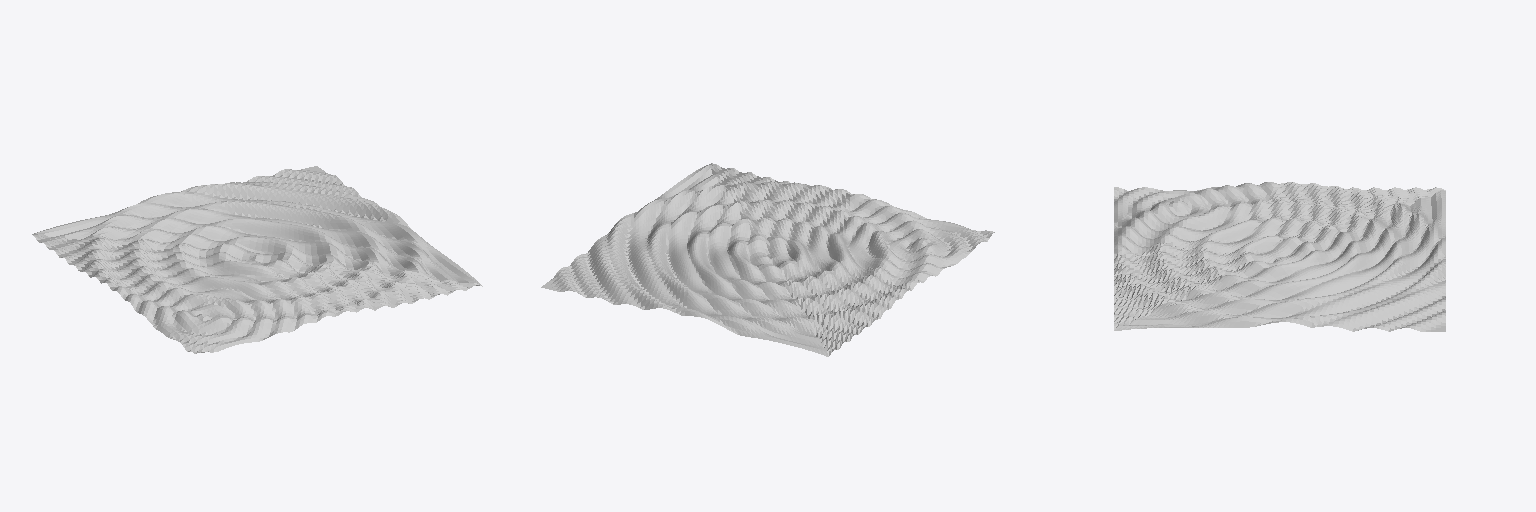
File: water.obj
3 renders of one model, left to right at view 1: azimuth 30°, elevation 25°; view 2: azimuth 150°, elevation 25°; view 3: azimuth 270°, elevation 25°, orthographic.
Parts seen in each view (by area): view 1: Plane; view 2: Plane; view 3: Plane.
Part boxes in pixels (left/top/right/bottom): Plane: left=32, top=166, right=482, bottom=353; Plane: left=541, top=163, right=994, bottom=356; Plane: left=1114, top=182, right=1445, bottom=331.
Bounding box in the file's own units: 20 × 0.7659 × 20.